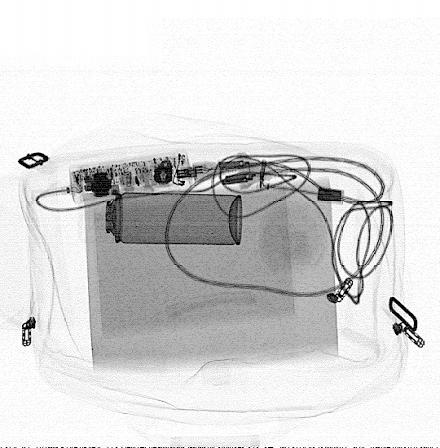Sprayer: (75, 190, 244, 247)
